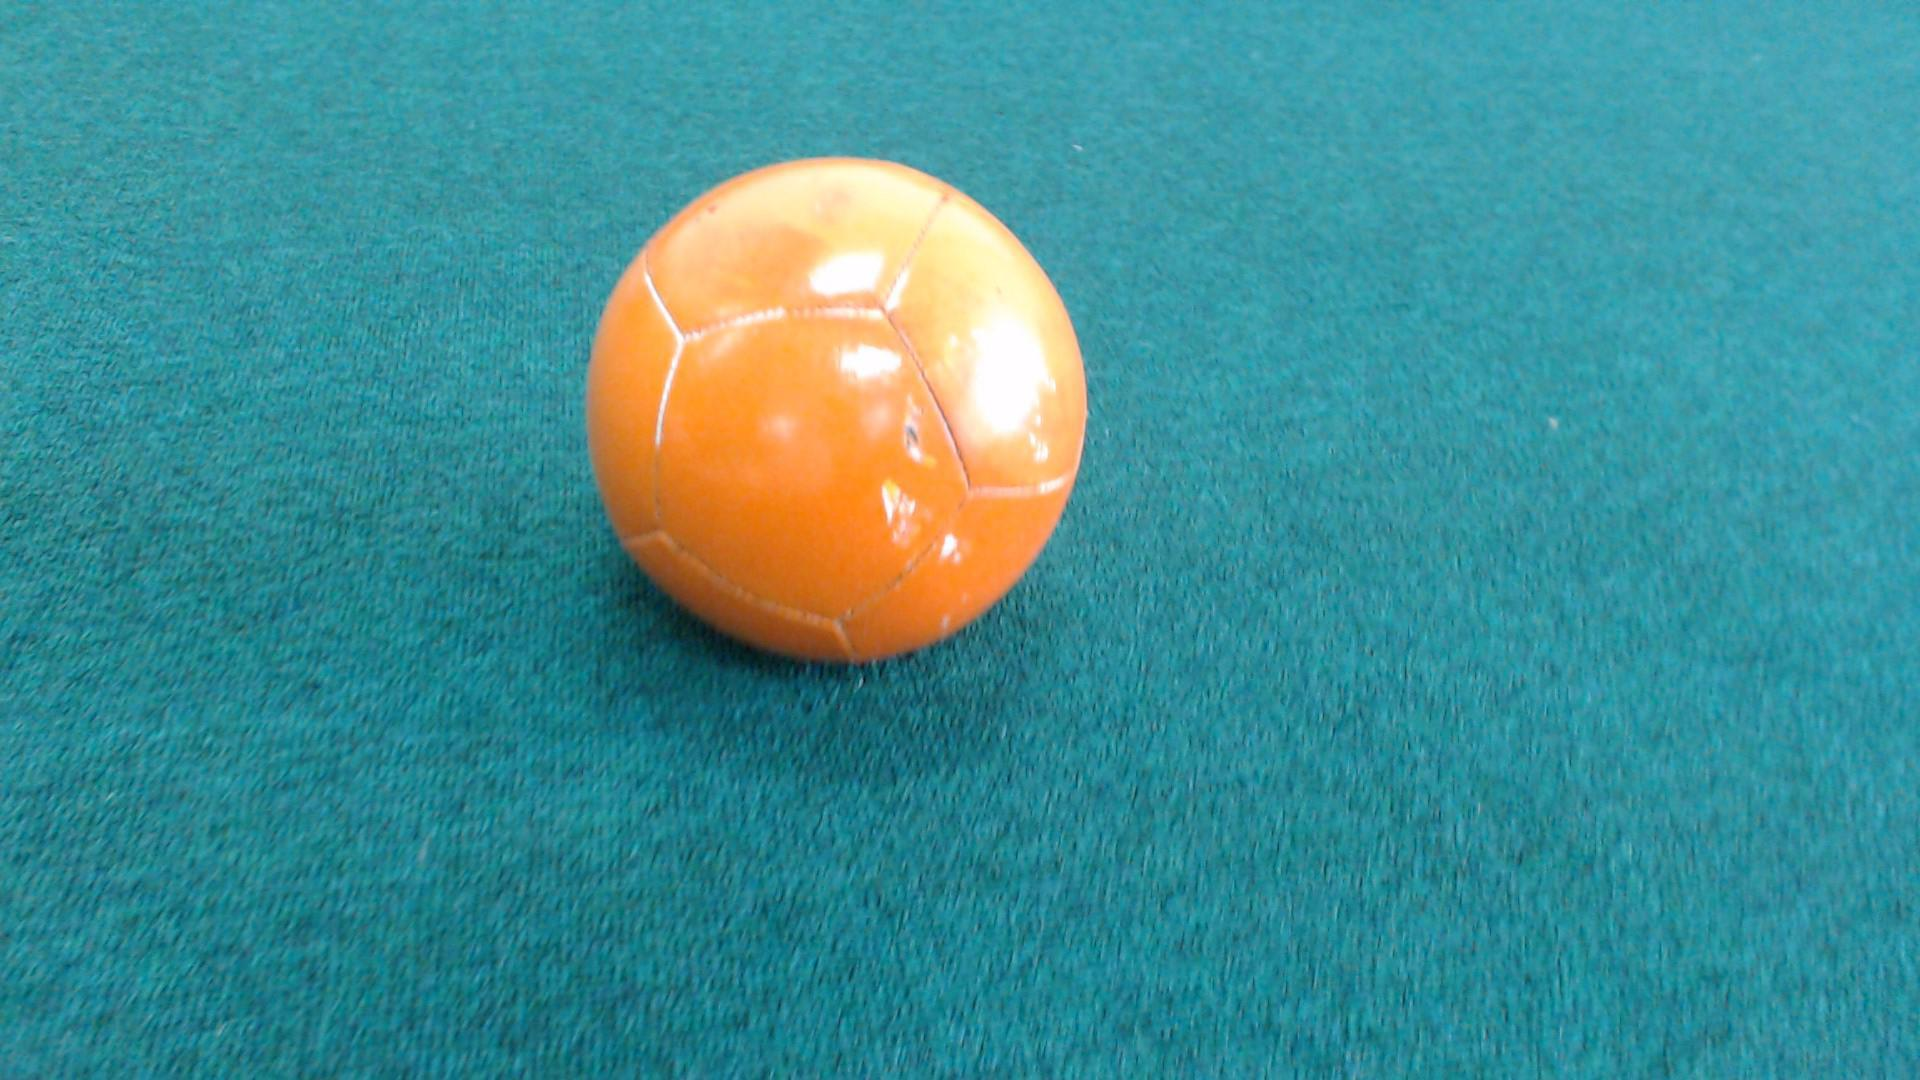bola: (538, 138, 1153, 705)
